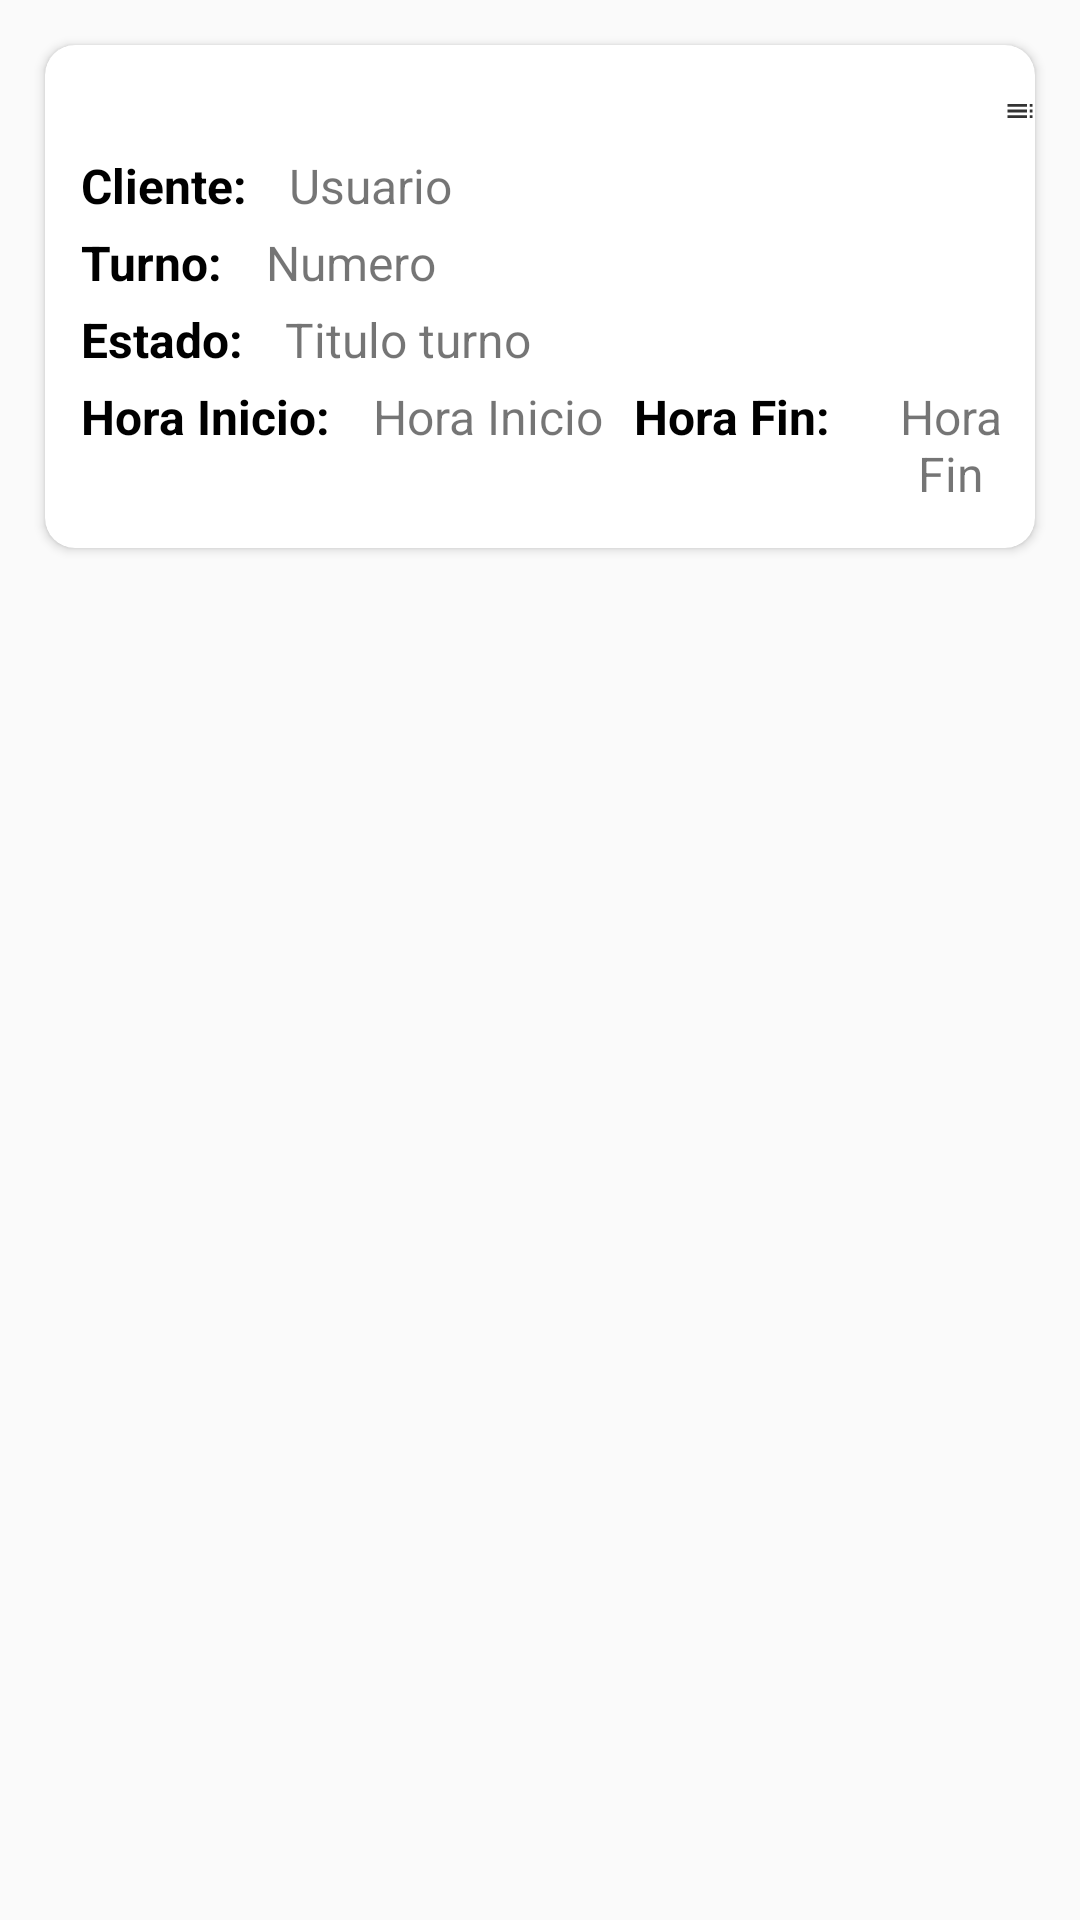

Icon bounding boxes for this 1080×1920 phone screenshot, format (x1, y1, x2, y2):
opciones: (1007, 104, 1033, 118)
